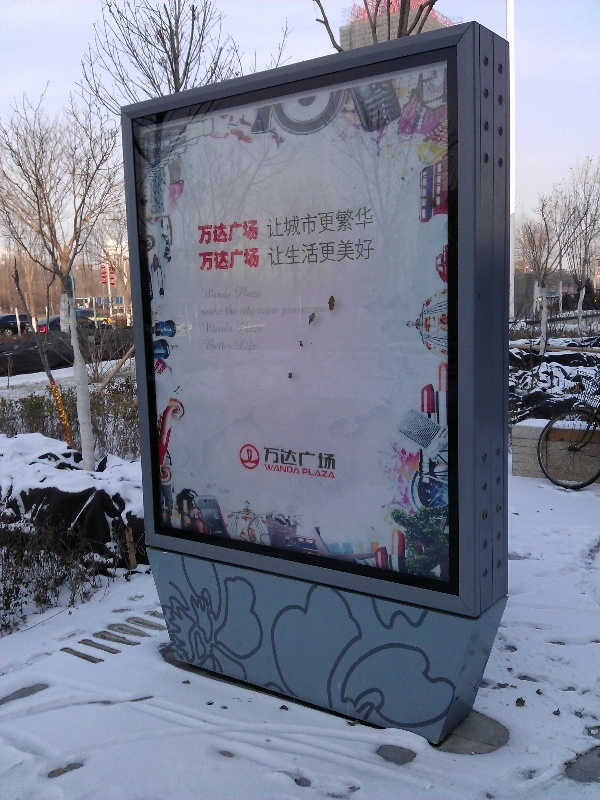text: (273, 236, 288, 269), (289, 236, 304, 269), (305, 236, 320, 269), (321, 236, 336, 269), (337, 236, 352, 269), (353, 236, 368, 269), (273, 207, 288, 240), (289, 207, 304, 240), (305, 207, 320, 240), (321, 207, 336, 240), (337, 207, 352, 240), (353, 207, 368, 240), (209, 218, 224, 248), (225, 218, 240, 248), (241, 218, 256, 248), (321, 446, 337, 471), (195, 218, 208, 248), (273, 446, 288, 471), (289, 446, 304, 471), (305, 446, 320, 471), (209, 248, 224, 273), (225, 248, 240, 273), (241, 248, 256, 273), (369, 236, 377, 269), (241, 339, 256, 355), (263, 446, 272, 471), (199, 248, 208, 273), (209, 287, 224, 301), (241, 286, 256, 300), (241, 321, 256, 334), (209, 305, 225, 317), (209, 322, 224, 334), (209, 339, 224, 351), (273, 463, 288, 475), (241, 307, 256, 319), (289, 306, 304, 318), (305, 306, 320, 318), (267, 207, 272, 240), (369, 207, 374, 240), (225, 305, 240, 316), (305, 468, 320, 479), (321, 468, 336, 479), (289, 463, 301, 475), (257, 248, 262, 273), (321, 306, 331, 318), (225, 287, 233, 301), (225, 322, 234, 334), (225, 339, 234, 351), (257, 308, 272, 315), (269, 236, 272, 269), (264, 463, 272, 475), (257, 218, 260, 248), (202, 287, 208, 301), (281, 306, 288, 318), (235, 339, 240, 355), (257, 321, 263, 334), (202, 305, 208, 317), (235, 286, 240, 300), (257, 286, 262, 300), (203, 322, 208, 334), (203, 339, 208, 351), (273, 308, 281, 315), (237, 321, 240, 334), (257, 339, 258, 355), (303, 468, 304, 479)
